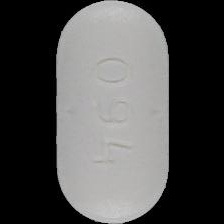60505-0094: (0, 0, 224, 224)
